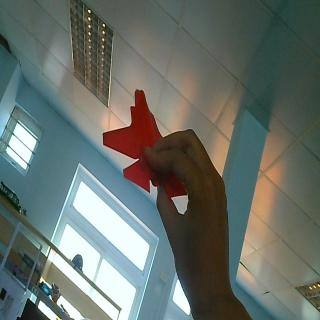Jet: (100, 88, 186, 198)
